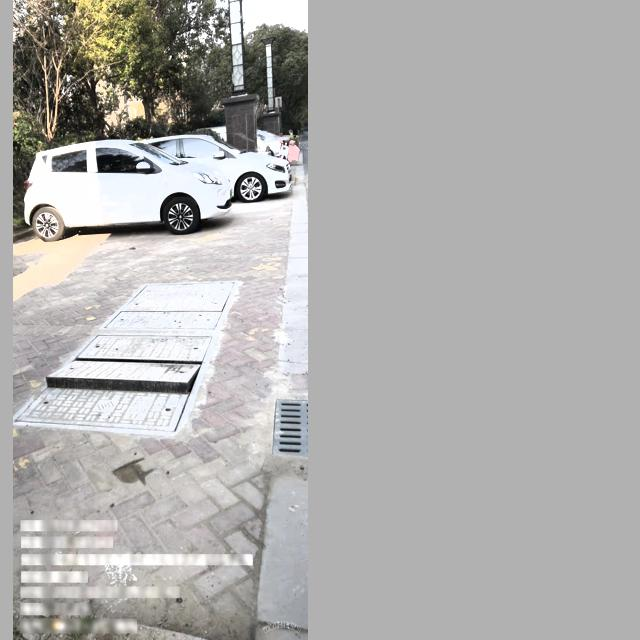good: (103, 278, 237, 331)
uncovered: (13, 333, 216, 436)
